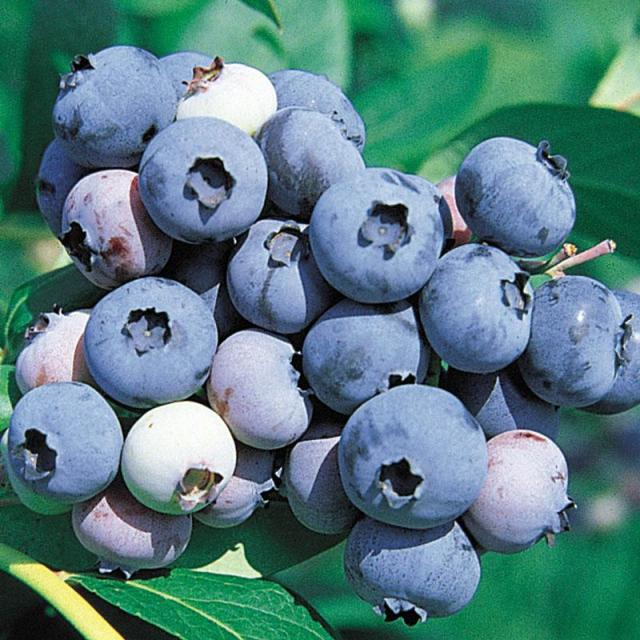BlueBerry - v1: (328, 378, 500, 540), (294, 151, 452, 309), (125, 108, 278, 246), (444, 121, 589, 266), (80, 267, 224, 404), (339, 508, 491, 637), (48, 39, 190, 176), (454, 420, 586, 564), (514, 267, 636, 416), (418, 236, 544, 378), (279, 394, 388, 558), (214, 206, 343, 342), (10, 380, 133, 516), (207, 316, 328, 453), (114, 396, 238, 526), (60, 164, 181, 290), (251, 100, 377, 216), (71, 476, 194, 590), (247, 57, 380, 153), (434, 359, 574, 450), (174, 54, 288, 155), (190, 442, 292, 538), (15, 294, 106, 398), (23, 134, 94, 239), (595, 276, 640, 430), (152, 43, 222, 101)
